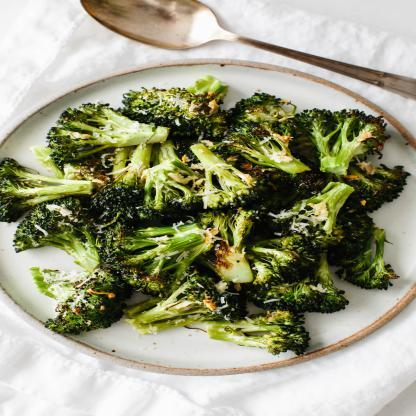broccoli: (0, 75, 408, 355)
